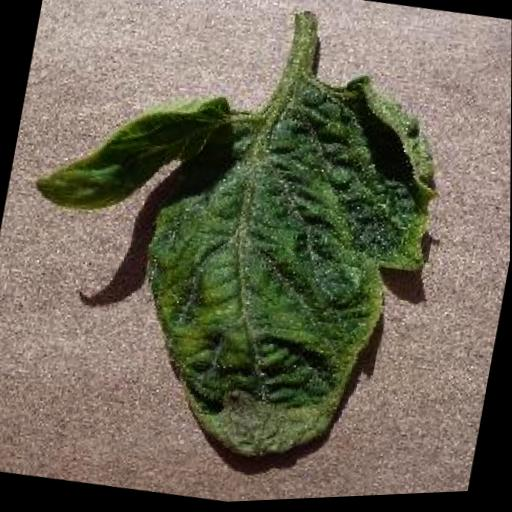Yellow Leaf Curl Virus: (0, 17, 459, 501)
